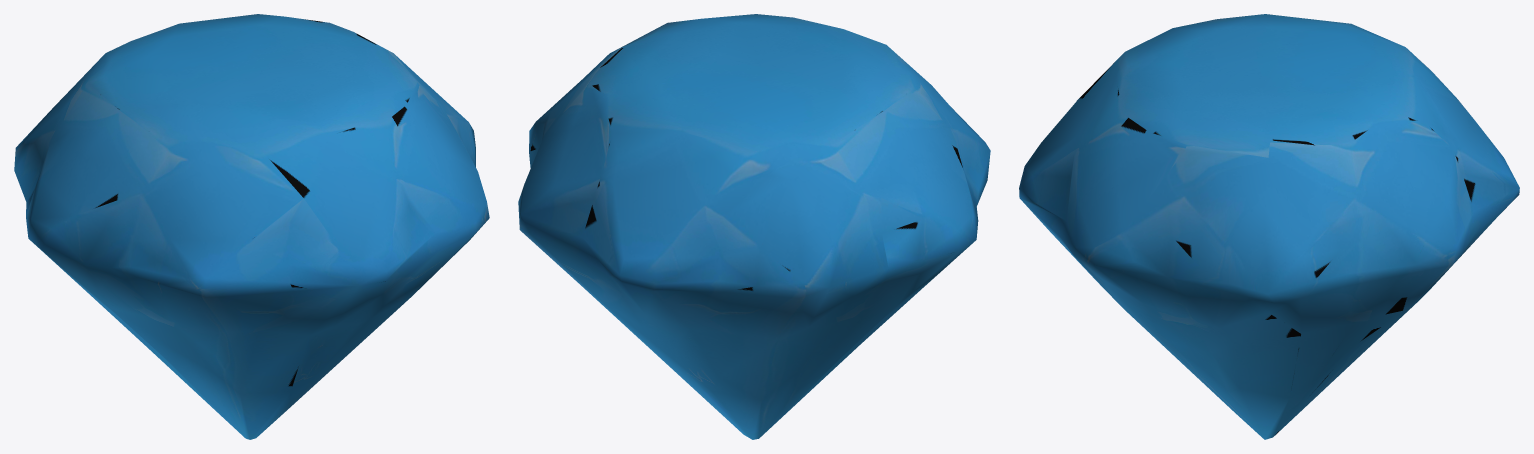
File: Diamond.fbx
The picture shows the model from 3 angles, left to right: view 1: azimuth 30°, elevation 25°; view 2: azimuth 150°, elevation 25°; view 3: azimuth 270°, elevation 25°; orthographic projection.
Visible parts, largest first — view 1: tripo_node_6c86a795; view 2: tripo_node_6c86a795; view 3: tripo_node_6c86a795.
Boxes of the visible parts, box(x1,y1,x2,y2) form: tripo_node_6c86a795: box(14, 14, 489, 439); tripo_node_6c86a795: box(518, 14, 990, 439); tripo_node_6c86a795: box(1019, 14, 1519, 439).
Bounding box in the file's own units: 97.89 × 79.33 × 96.59.
Materials: 1 (1 with a texture image).
